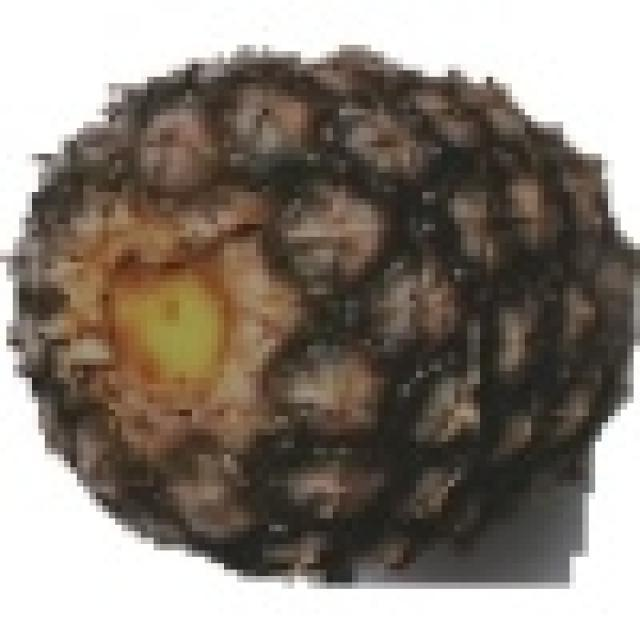pineapple: (6, 38, 621, 563)
